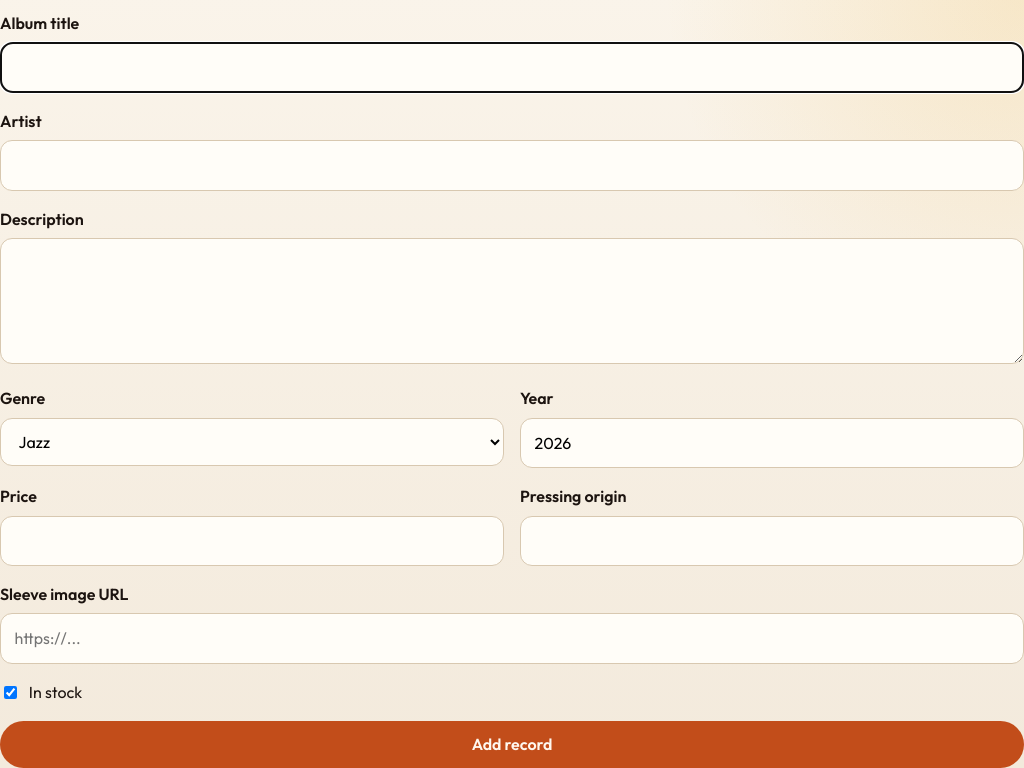
ProductForm › asks for required fields before creating a record
Click the button "Add record" at coordinates (512, 745), box [0, 721, 1023, 767]
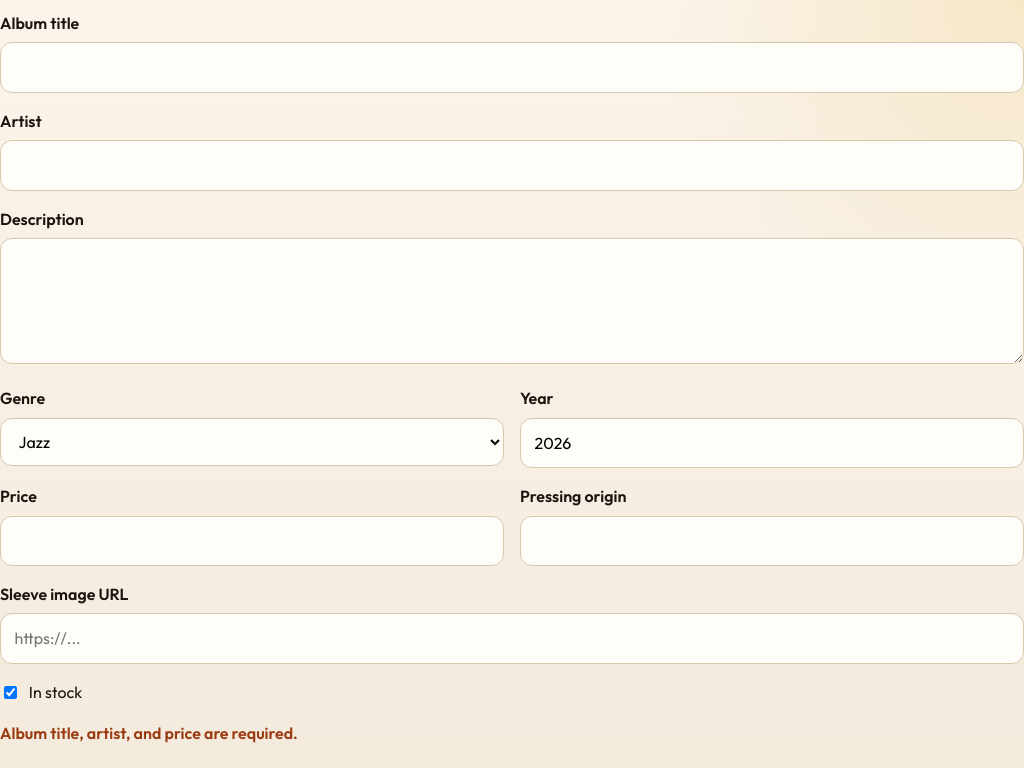
Expected: the text "Album title, artist, and price are required." is shown, [0, 723, 298, 743]
